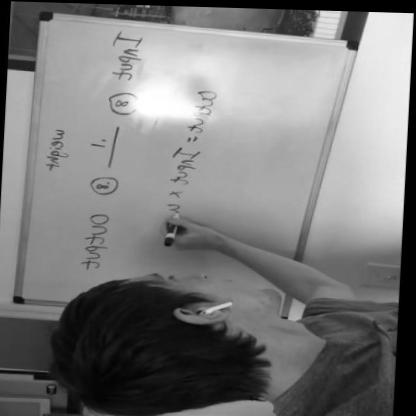Handwritten text: (149, 74, 239, 235), (105, 27, 164, 82), (73, 204, 112, 267), (36, 124, 76, 177)
Lecturer: (46, 260, 405, 416)
Whiteboard: (21, 13, 357, 326)
